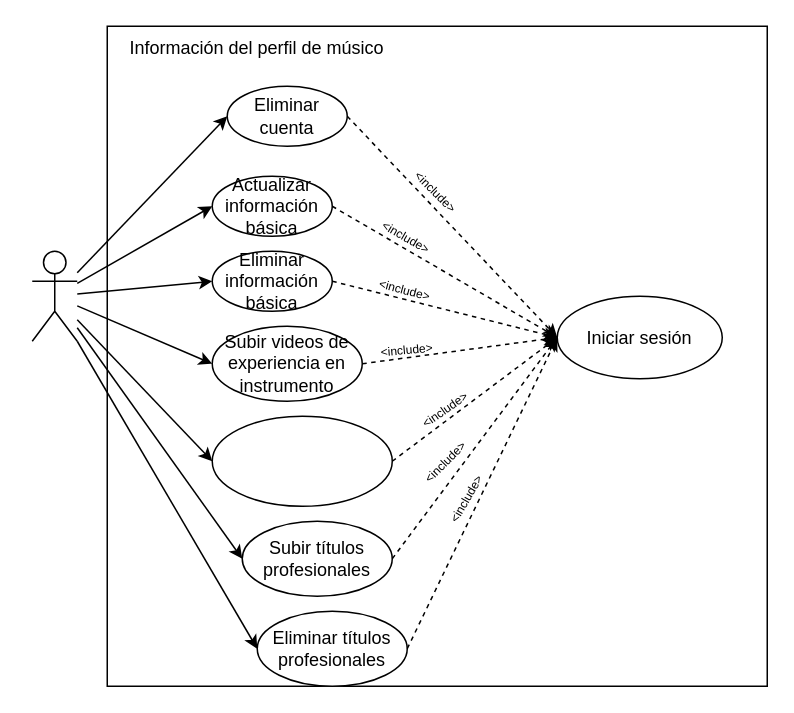
Image size: 794x713. Some labels were removed from this diagram. Here are the shapes that lost their labels. From the top down, the centre of each, then its label:
At point (54, 295): "Musico".
At point (301, 460): "Eliminar videos de experiencia en instrumento".
